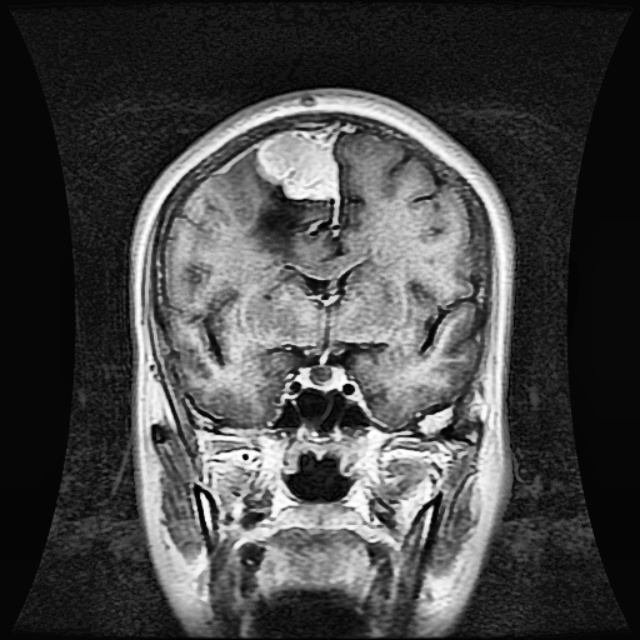Glioma: (255, 128, 339, 198)
